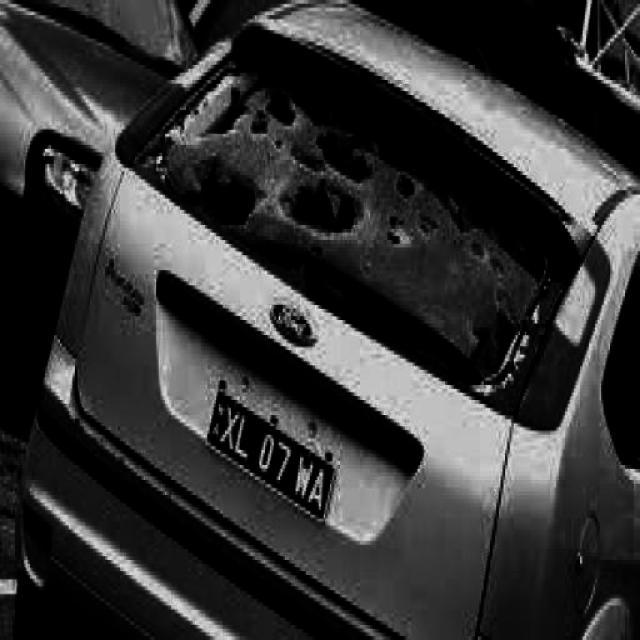car damage: (132, 44, 569, 398)
